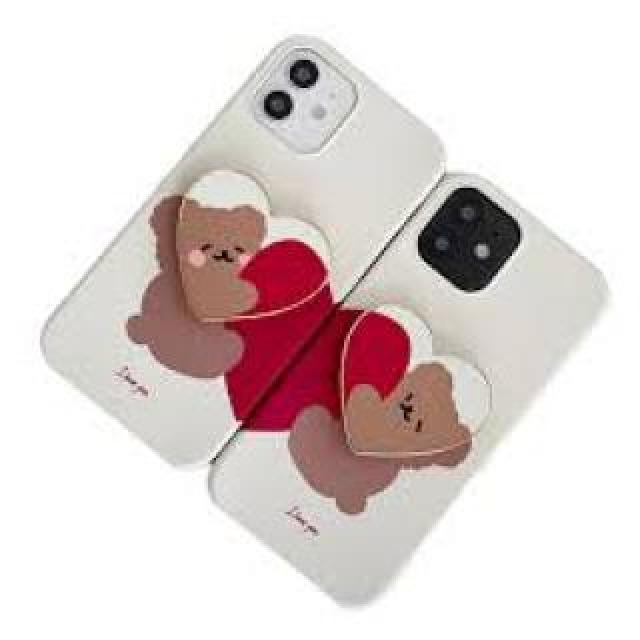smart phone: (310, 230, 602, 593), (40, 28, 413, 310)
